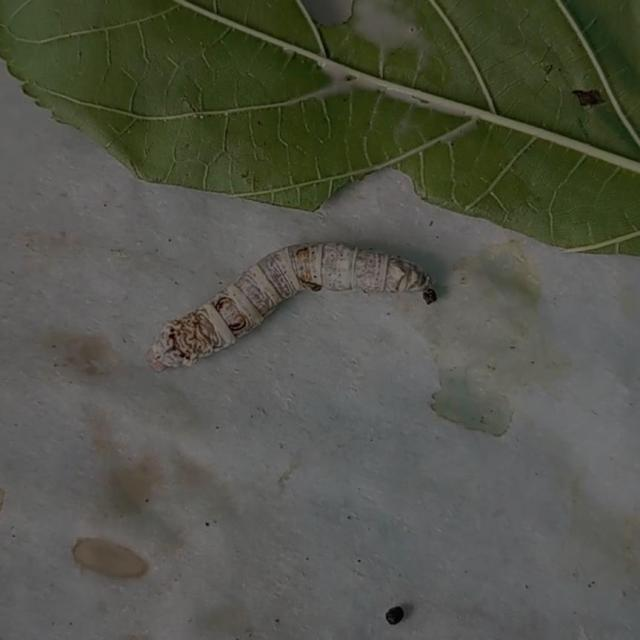Grasserie: (126, 212, 458, 384)
